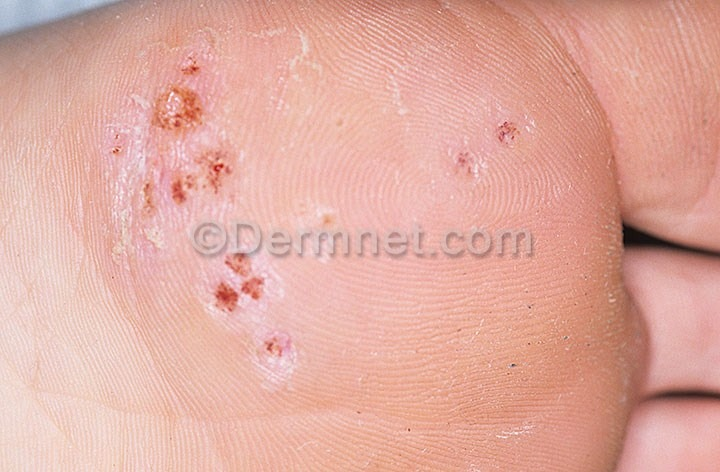Warts: (145, 75, 215, 139)
